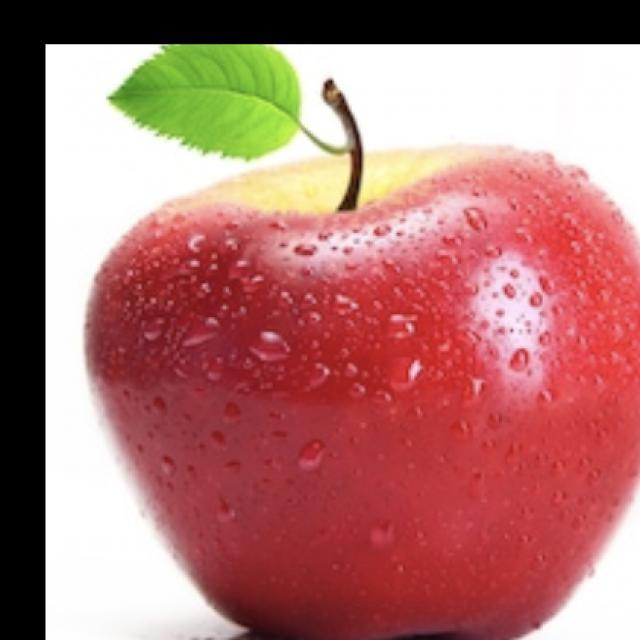Fresh Apple: (93, 153, 640, 640)
